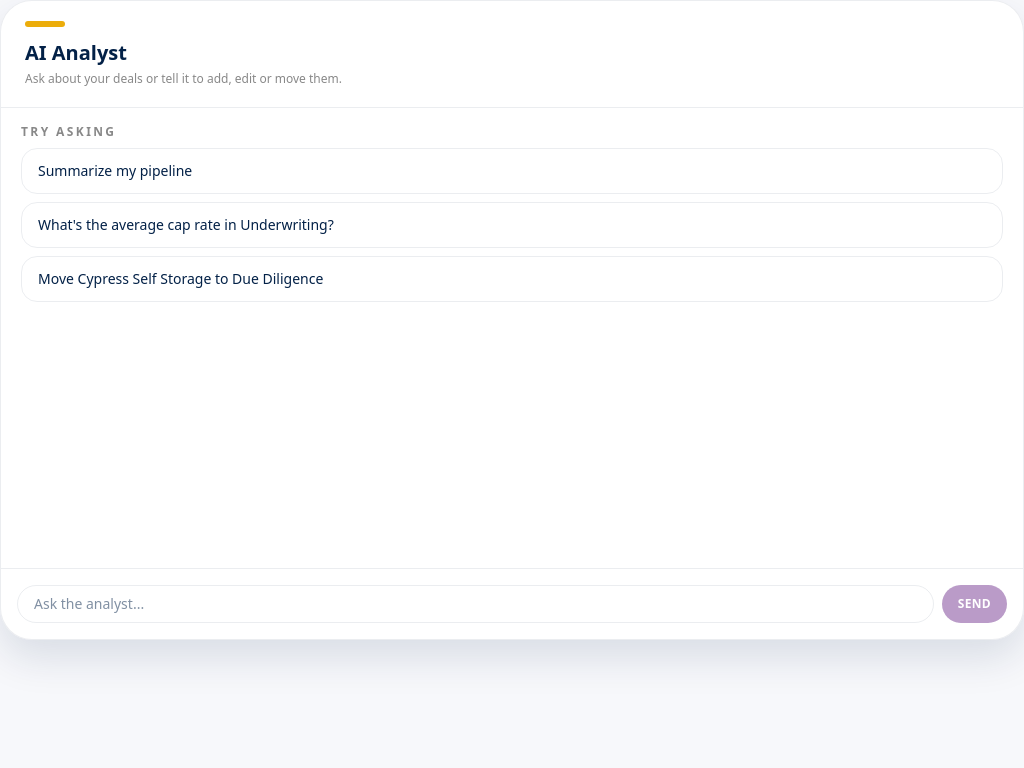
ChatSidebar › suggestion buttons send immediately
The width and height of the screenshot is (1024, 768).
Click the button "Summarize my pipeline": click(115, 170) [21, 148, 1003, 194]
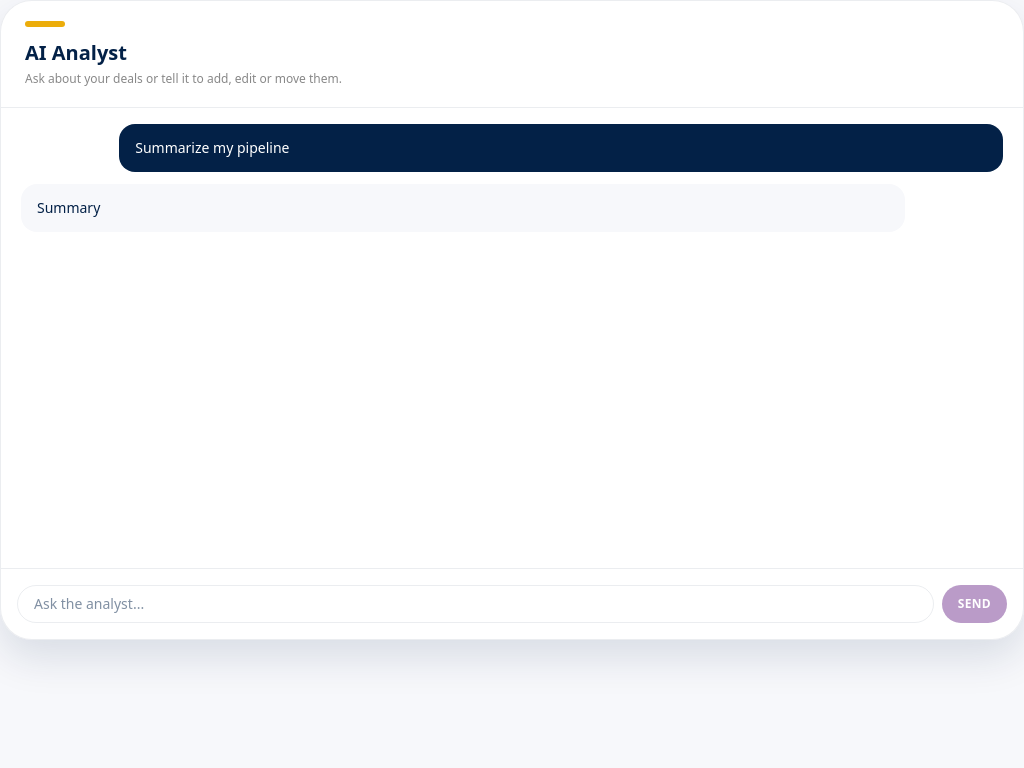
Expected: the text "Summary" is shown, [21, 184, 905, 232]
